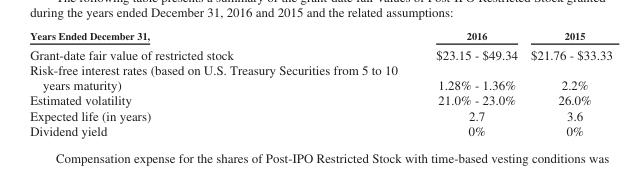table: (29, 28, 611, 137)
table column: (29, 28, 416, 137), (416, 28, 523, 137), (523, 28, 611, 137)
table column header: (29, 28, 611, 44)
table row: (29, 62, 611, 92), (29, 44, 611, 62), (29, 28, 611, 44), (29, 92, 611, 107), (29, 107, 611, 122), (29, 122, 611, 137)
